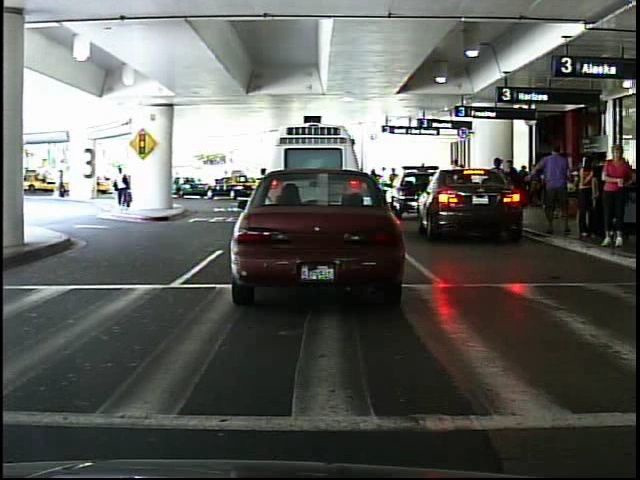person: (600, 141, 633, 253), (106, 158, 139, 212), (57, 164, 72, 202)
